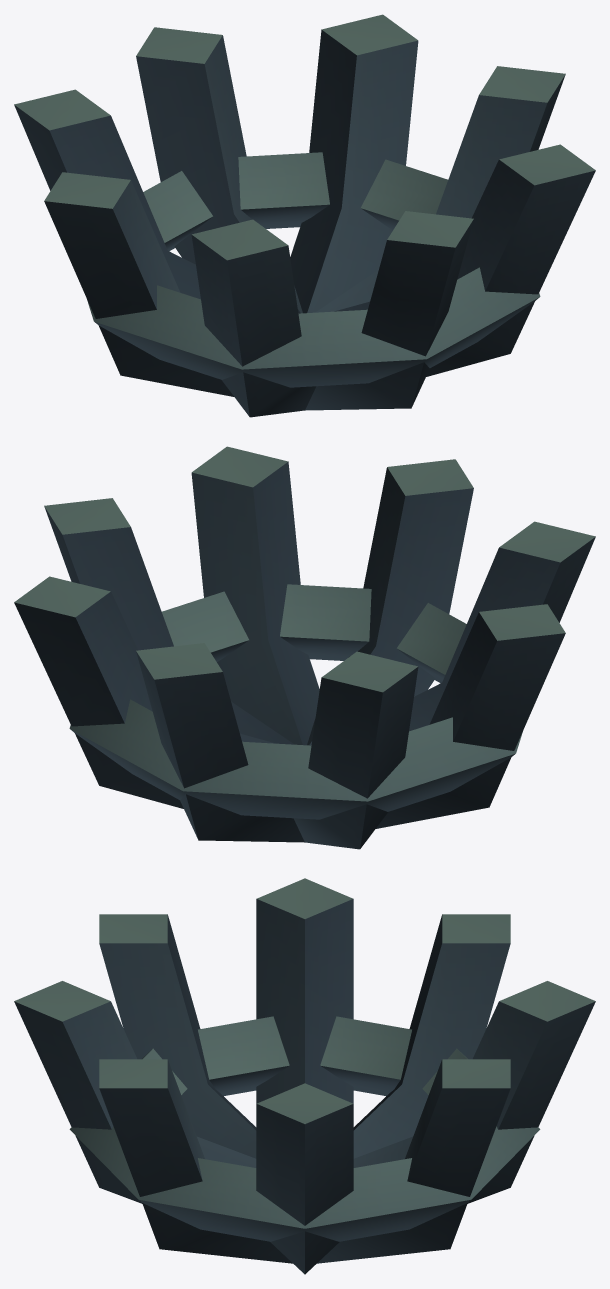
Rendered from torch_4.fbx.
3 renders of one model, top to bottom at view 1: azimuth 30°, elevation 25°; view 2: azimuth 150°, elevation 25°; view 3: azimuth 270°, elevation 25°, orthographic. The views are drawn at different scales.
Parts seen in each view (by area): view 1: torch_4; view 2: torch_4; view 3: torch_4.
Boxes of the visible parts, x1,y1,x2,y2 form: torch_4: [14, 14, 595, 417]; torch_4: [14, 446, 595, 849]; torch_4: [14, 878, 595, 1274].
Size of the model in its own units: 130 by 64.9 by 130.
